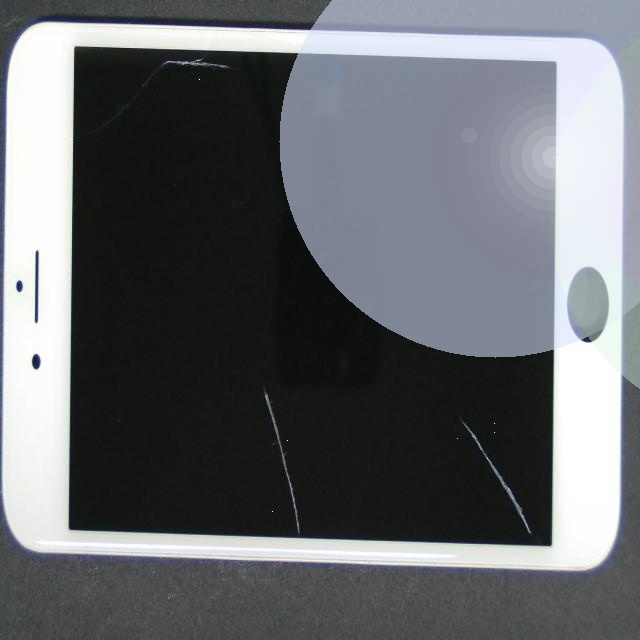scratch: (223, 209, 640, 631), (136, 269, 413, 640), (115, 69, 356, 117)
